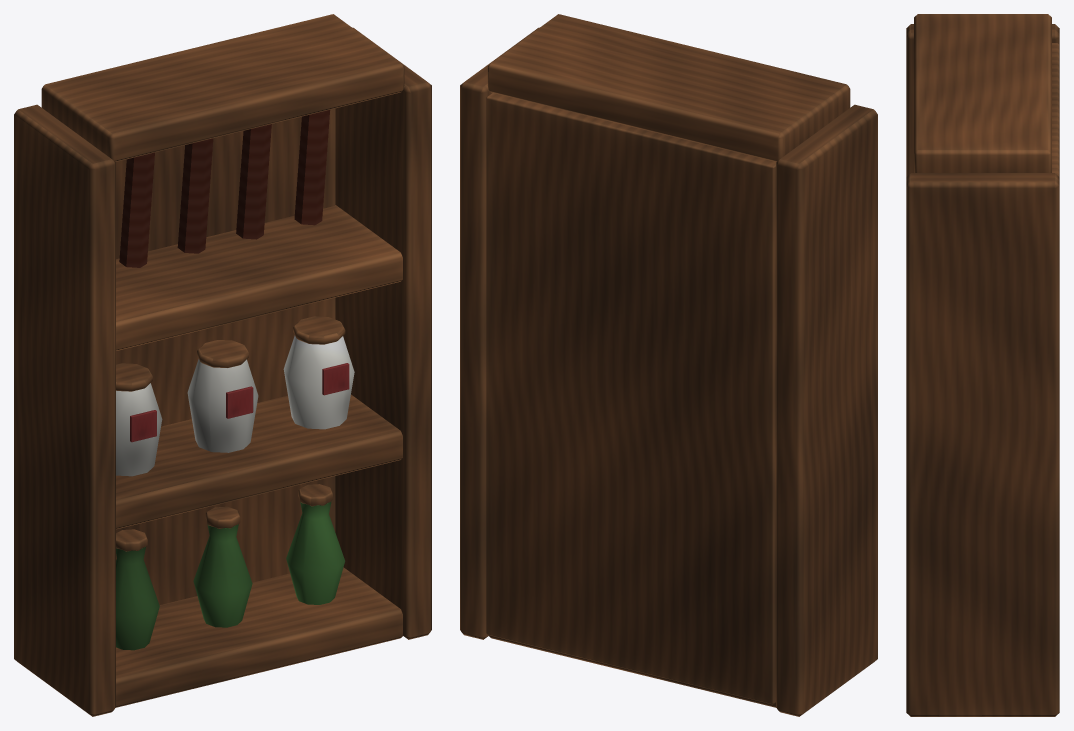
The model's file is Furn_Place_StaminaPantry.fbx.
3 views of the same model, side by side, from view 1: azimuth 30°, elevation 25°; view 2: azimuth 150°, elevation 25°; view 3: azimuth 270°, elevation 25° (orthographic). The views are drawn at different scales.
Parts seen in each view (by area): view 1: Furn_Place_StaminaPantry; view 2: Furn_Place_StaminaPantry; view 3: Furn_Place_StaminaPantry.
Part boxes in pixels (x1,y1,x2,y2): Furn_Place_StaminaPantry: [14, 14, 431, 716]; Furn_Place_StaminaPantry: [460, 14, 877, 716]; Furn_Place_StaminaPantry: [906, 14, 1059, 716].
Bounding box in the file's own units: 1 × 1.6 × 0.4.
Materials: 4 (4 with a texture image).
